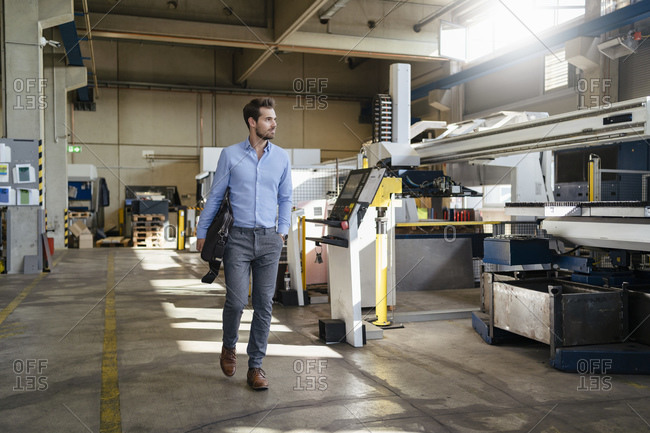person: (199, 99, 294, 391)
